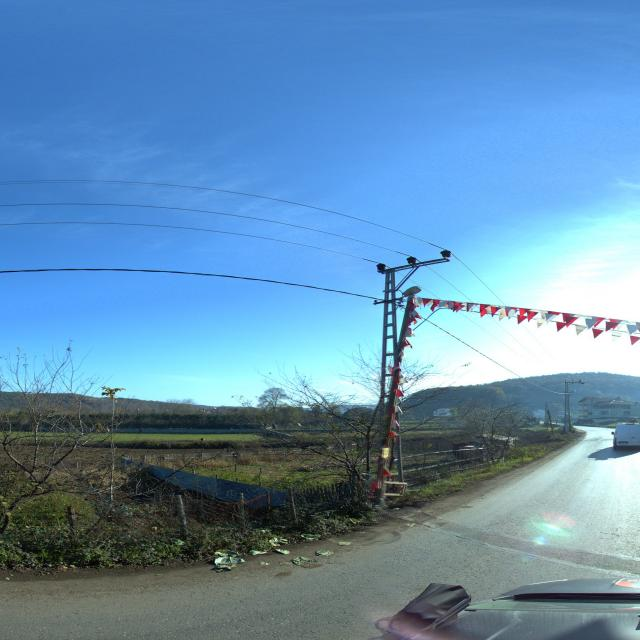Utility Pole Information Plate: (380, 446, 390, 461)
